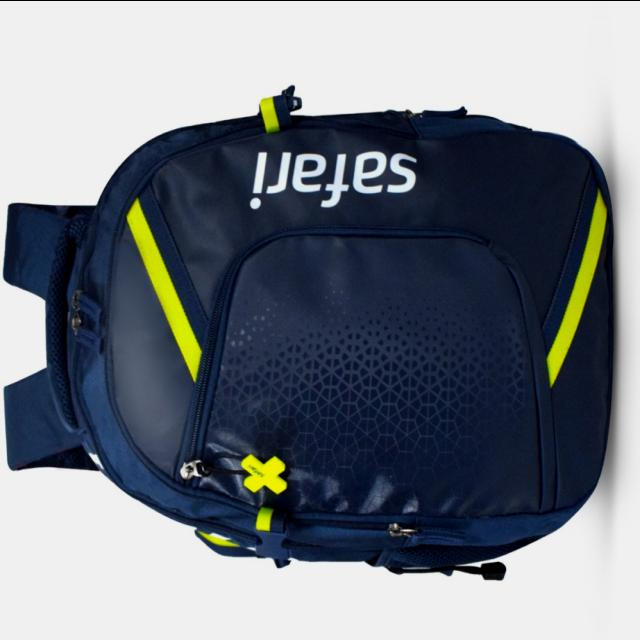backpack: (2, 86, 616, 582)
